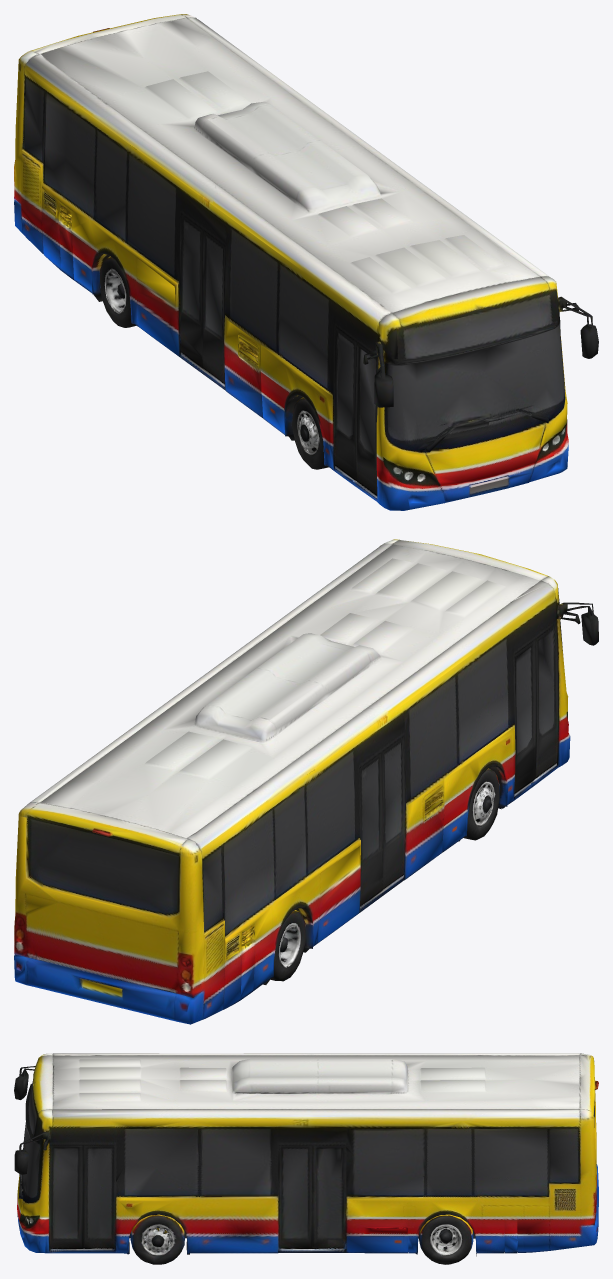
The model's file is v04-single-decker-8k.glb.
3 renders of one model, top to bottom at view 1: azimuth 30°, elevation 25°; view 2: azimuth 150°, elevation 25°; view 3: azimuth 270°, elevation 25°, orthographic. The views are drawn at different scales.
Parts seen in each view (by area): view 1: tripo_node_033b71a3-ed90-4ca7-9703-32c4e43b4697; view 2: tripo_node_033b71a3-ed90-4ca7-9703-32c4e43b4697; view 3: tripo_node_033b71a3-ed90-4ca7-9703-32c4e43b4697.
Part boxes in pixels (bbox=[...]): tripo_node_033b71a3-ed90-4ca7-9703-32c4e43b4697: bbox=[14, 14, 598, 510]; tripo_node_033b71a3-ed90-4ca7-9703-32c4e43b4697: bbox=[14, 539, 598, 1024]; tripo_node_033b71a3-ed90-4ca7-9703-32c4e43b4697: bbox=[14, 1053, 598, 1264].
Size of the model in its own units: 0.318 by 0.3041 by 0.98.
1 material, 1 textured.
